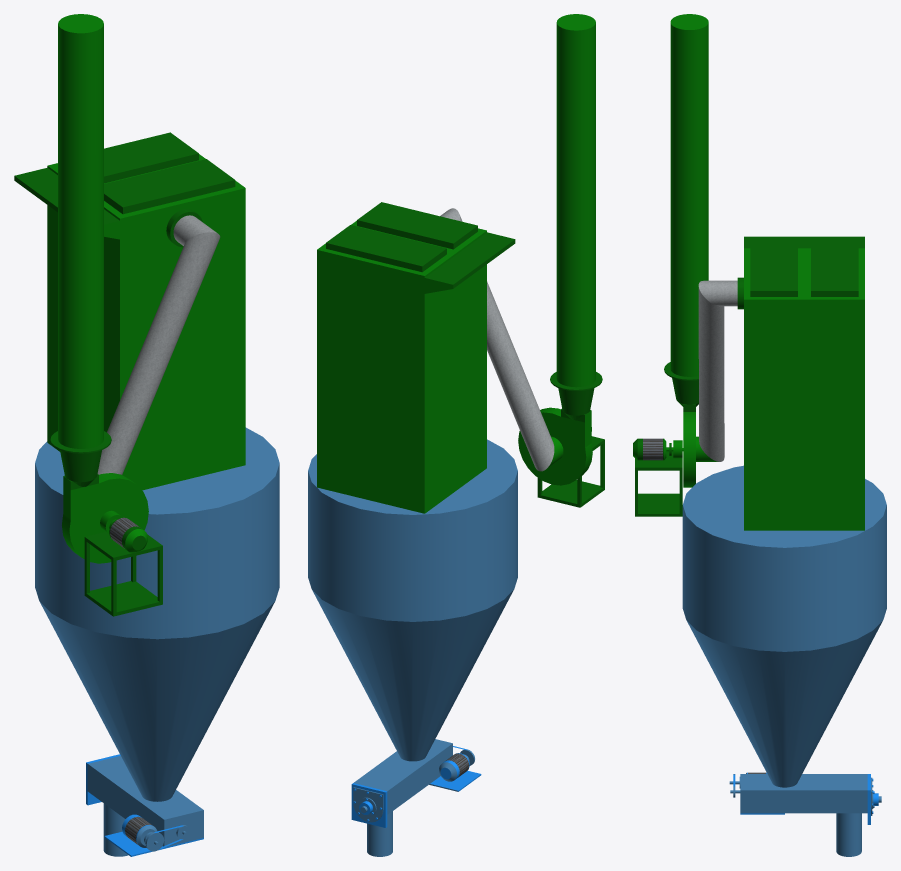
Rendered from 干磨机的除尘机_称量包装机.glb.
3 views of the same model, side by side, from view 1: azimuth 30°, elevation 25°; view 2: azimuth 150°, elevation 25°; view 3: azimuth 270°, elevation 25° (orthographic). The views are drawn at different scales.
Parts seen in each view (by area): view 1: root; view 2: root; view 3: root.
Part boxes in pixels (<box>): root: <box>14,14,279,856</box>; root: <box>308,14,604,856</box>; root: <box>633,14,886,856</box>.
Bounding box in the file's own units: 4.01 × 13.41 × 3.98.
Materials: 6 (2 with a texture image).
